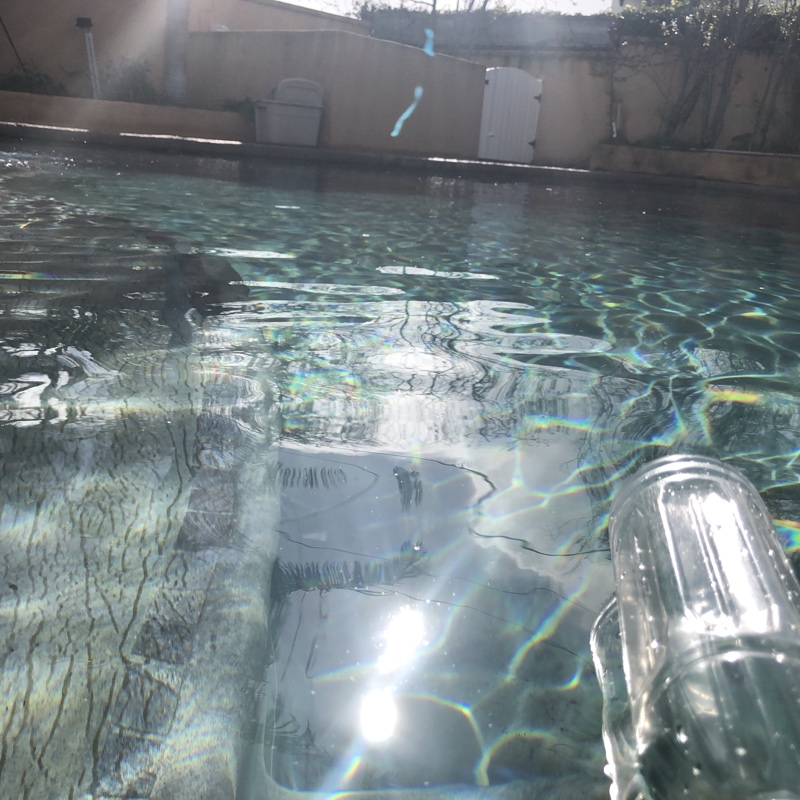Plastic Bottle: (599, 447, 800, 800)
